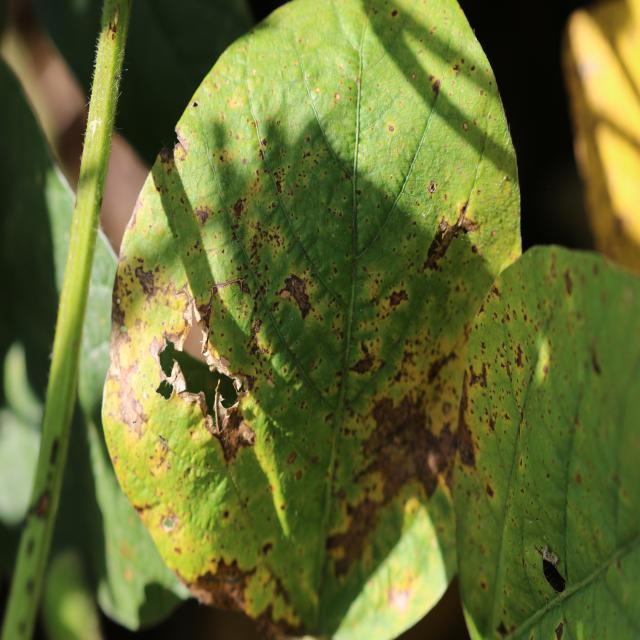Bacterial_Blight: (186, 566, 279, 626), (326, 496, 383, 579), (427, 195, 470, 260), (455, 367, 481, 470), (198, 279, 244, 334), (220, 409, 256, 462), (114, 381, 148, 436), (279, 273, 314, 320), (173, 286, 202, 340), (428, 345, 459, 381), (109, 321, 132, 365), (348, 347, 376, 375), (134, 265, 156, 297), (468, 358, 490, 390), (211, 277, 246, 296), (268, 165, 287, 195), (248, 233, 267, 260), (213, 388, 223, 438), (237, 371, 258, 393), (387, 287, 408, 308), (173, 128, 188, 157), (427, 449, 443, 476), (149, 336, 165, 359), (161, 513, 179, 532), (194, 205, 211, 225), (232, 198, 245, 218), (261, 541, 274, 554), (431, 79, 441, 95), (498, 175, 509, 188), (287, 451, 297, 465), (427, 181, 436, 194), (442, 402, 451, 415), (280, 290, 291, 299), (215, 378, 221, 394), (462, 122, 469, 132), (260, 138, 267, 147), (391, 9, 398, 18), (388, 125, 395, 133), (192, 100, 199, 108), (335, 93, 341, 102), (452, 64, 459, 71), (411, 72, 416, 80)
Soybean: (98, 0, 524, 640)
